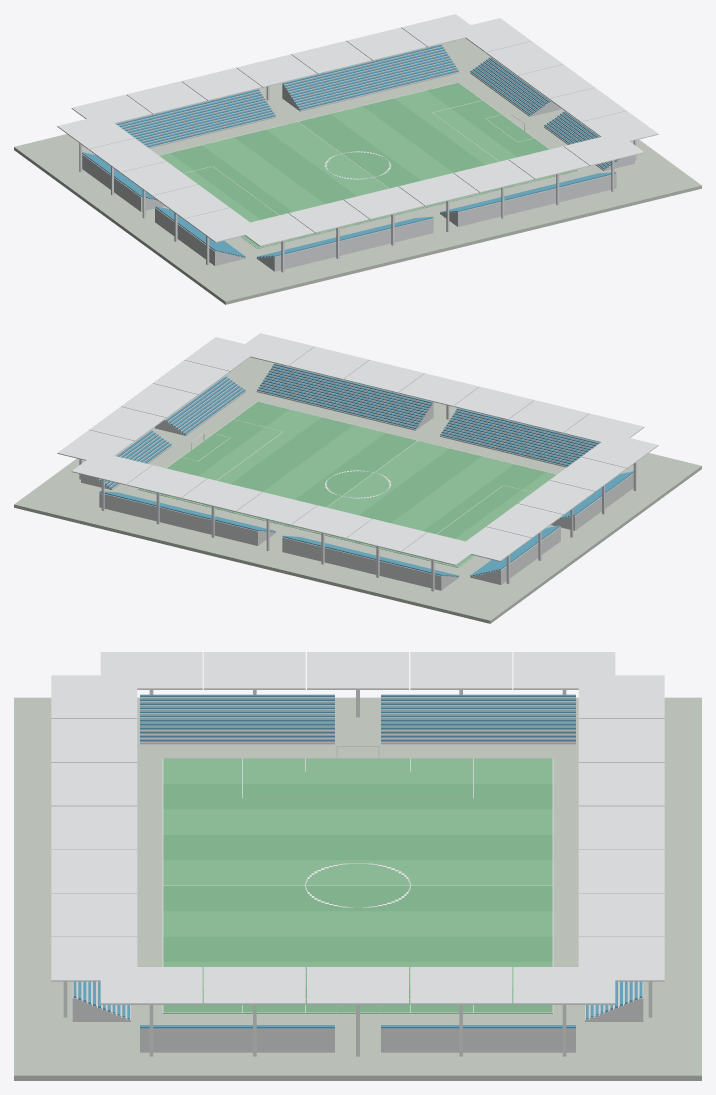
The picture shows the model from 3 angles, top to bottom: view 1: azimuth 30°, elevation 25°; view 2: azimuth 150°, elevation 25°; view 3: azimuth 270°, elevation 25°; orthographic projection. The views are drawn at different scales.
Visible parts, largest first — view 1: Site_base, Turf_stripe_01, Turf_stripe_06, Turf_stripe_08, Turf_stripe_03, Turf_stripe_07, Turf_stripe_02, Turf_stripe_09, Turf_stripe_04, Turf_stripe_05, Stand_long_1_0_row_11, Stand_long_1_1_row_11 (+27 smaller); view 2: Site_base, Turf_stripe_01, Turf_stripe_06, Turf_stripe_08, Turf_stripe_03, Turf_stripe_07, Turf_stripe_02, Turf_stripe_09, Turf_stripe_04, Turf_stripe_05, Stand_long_-1_0_row_11, Stand_long_-1_1_row_11 (+27 smaller); view 3: Site_base, Turf_stripe_05, Turf_stripe_01, Turf_stripe_02, Turf_stripe_03, Turf_stripe_06, Turf_stripe_07, Turf_stripe_00, Turf_stripe_04, Stand_end_1_0_row_11, Stand_end_1_1_row_11, Roof_end_-1_-18 (+47 smaller).
Part boxes in pixels (x1,y1,x2,y2): Site_base: (14, 38, 701, 304); Turf_stripe_01: (170, 145, 320, 240); Turf_stripe_06: (330, 106, 481, 201); Turf_stripe_08: (395, 90, 545, 185); Turf_stripe_03: (234, 129, 385, 224); Turf_stripe_07: (362, 98, 513, 193); Turf_stripe_02: (202, 137, 352, 232); Turf_stripe_09: (426, 82, 577, 177); Turf_stripe_04: (266, 122, 416, 216); Turf_stripe_05: (299, 114, 446, 208); Stand_long_1_0_row_11: (273, 218, 433, 271); Stand_long_1_1_row_11: (456, 173, 616, 226); Site_base: (14, 357, 701, 623); Turf_stripe_01: (395, 464, 545, 559); Turf_stripe_06: (234, 425, 385, 520); Turf_stripe_08: (170, 409, 320, 504); Turf_stripe_03: (330, 448, 481, 543); Turf_stripe_07: (202, 417, 353, 512); Turf_stripe_02: (363, 456, 513, 551); Turf_stripe_09: (138, 401, 289, 496); Turf_stripe_04: (299, 441, 449, 535); Turf_stripe_05: (269, 433, 416, 527); Stand_long_-1_0_row_11: (282, 537, 442, 590); Stand_long_-1_1_row_11: (99, 492, 259, 545); Site_base: (14, 697, 701, 1080); Turf_stripe_05: (163, 885, 552, 911); Turf_stripe_01: (163, 784, 552, 809); Turf_stripe_02: (163, 809, 552, 834); Turf_stripe_03: (163, 835, 552, 860); Turf_stripe_06: (163, 911, 552, 936); Turf_stripe_07: (163, 936, 552, 961); Turf_stripe_00: (163, 758, 552, 783); Turf_stripe_04: (163, 860, 552, 885); Stand_end_1_0_row_11: (381, 1028, 575, 1052); Stand_end_1_1_row_11: (140, 1028, 334, 1052); Roof_end_-1_-18: (410, 652, 512, 689).
Bounding box in the file's own units: 156 × 12.34 × 120.
